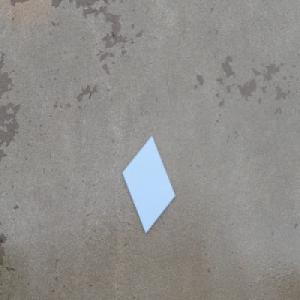PaintChip: (121, 133, 175, 234)
